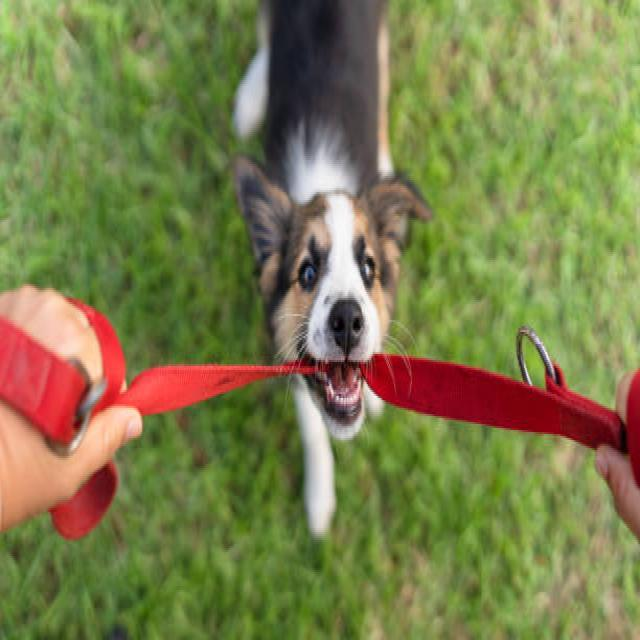BORDER_COLLIE: (220, 0, 444, 558)
